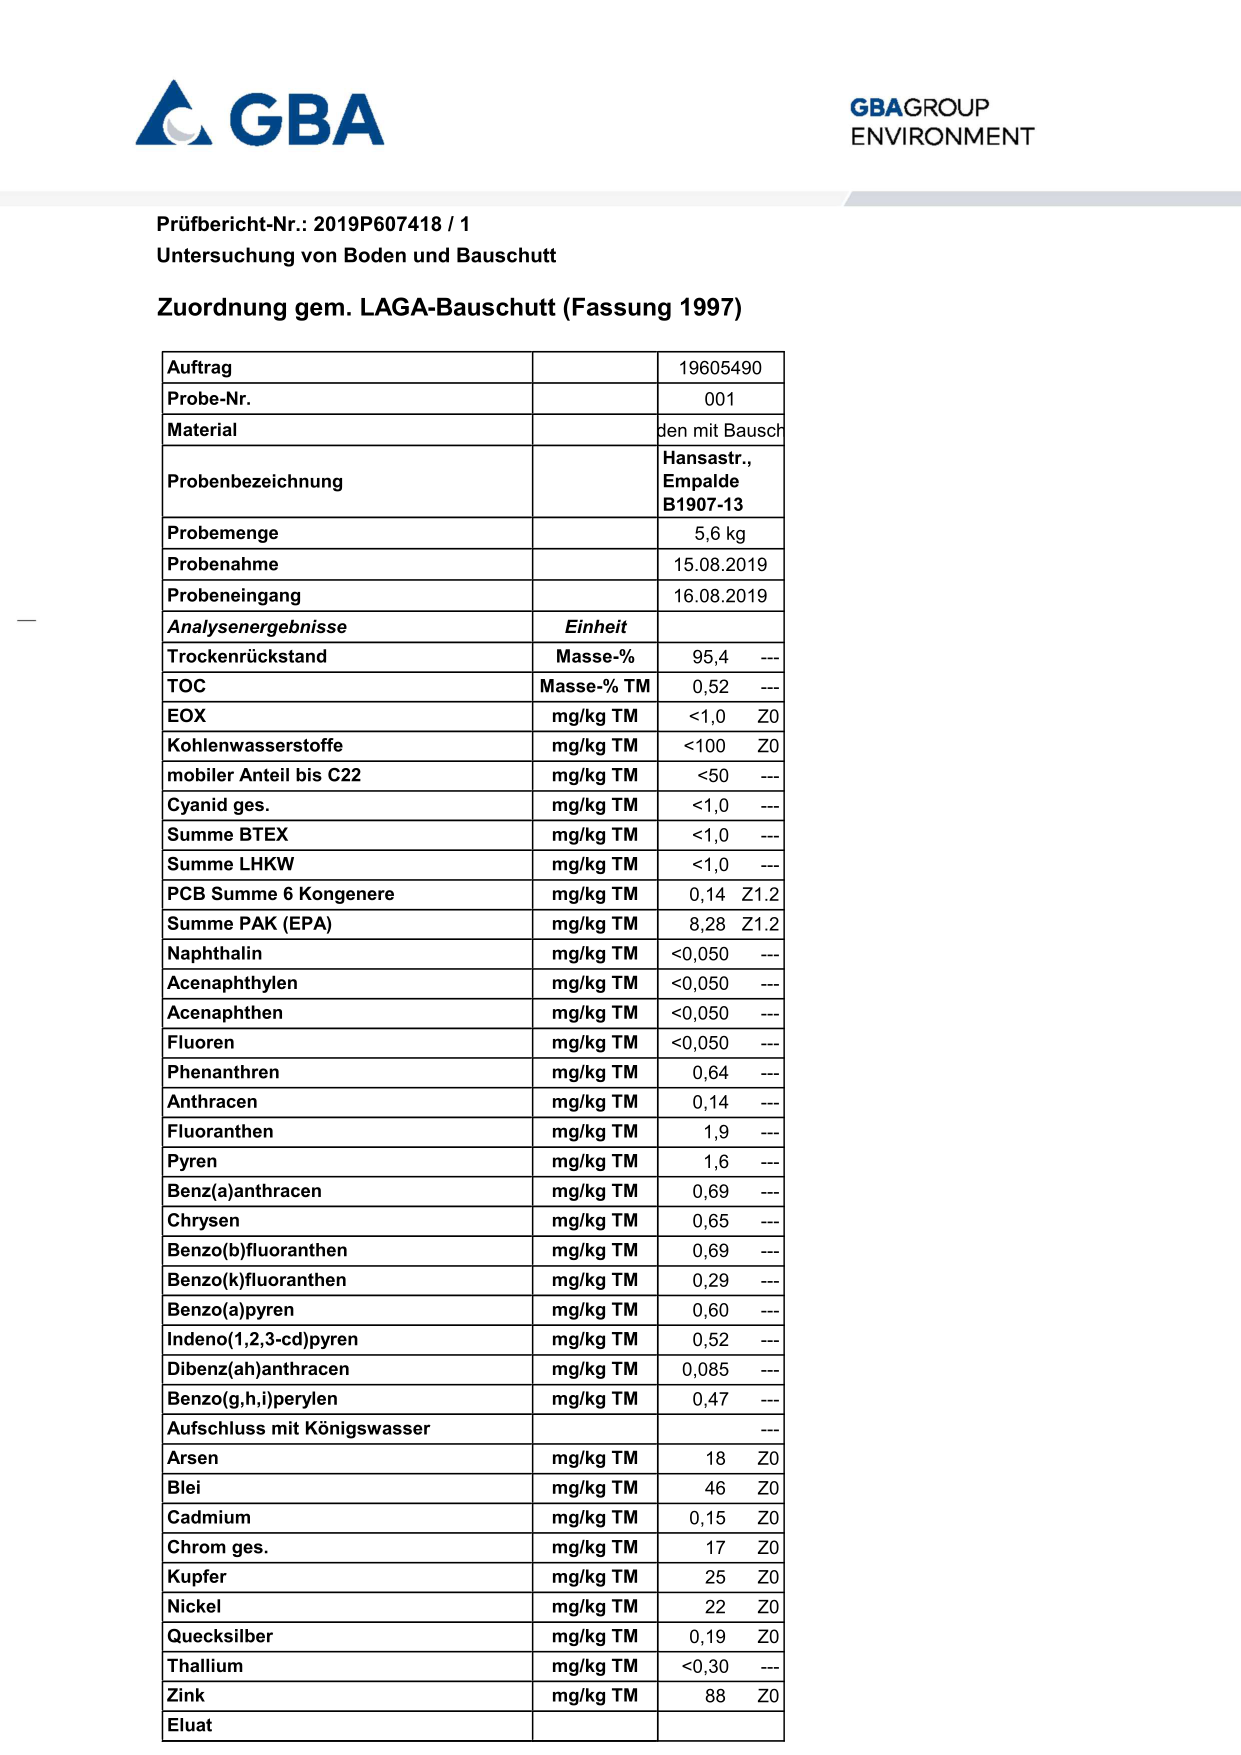table: (142, 342, 795, 1751)
